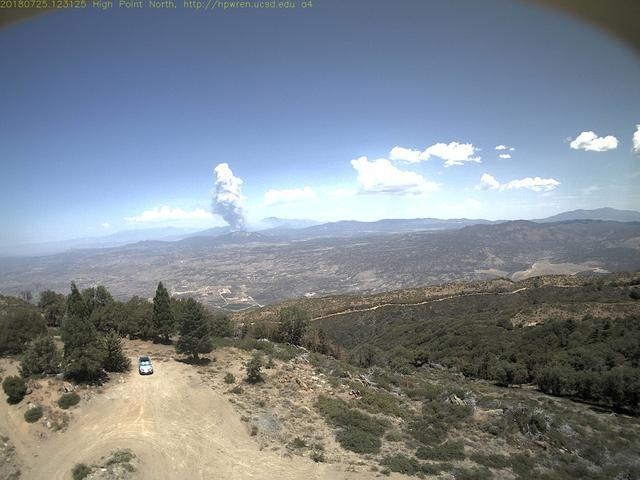smoke: (207, 158, 257, 239)
